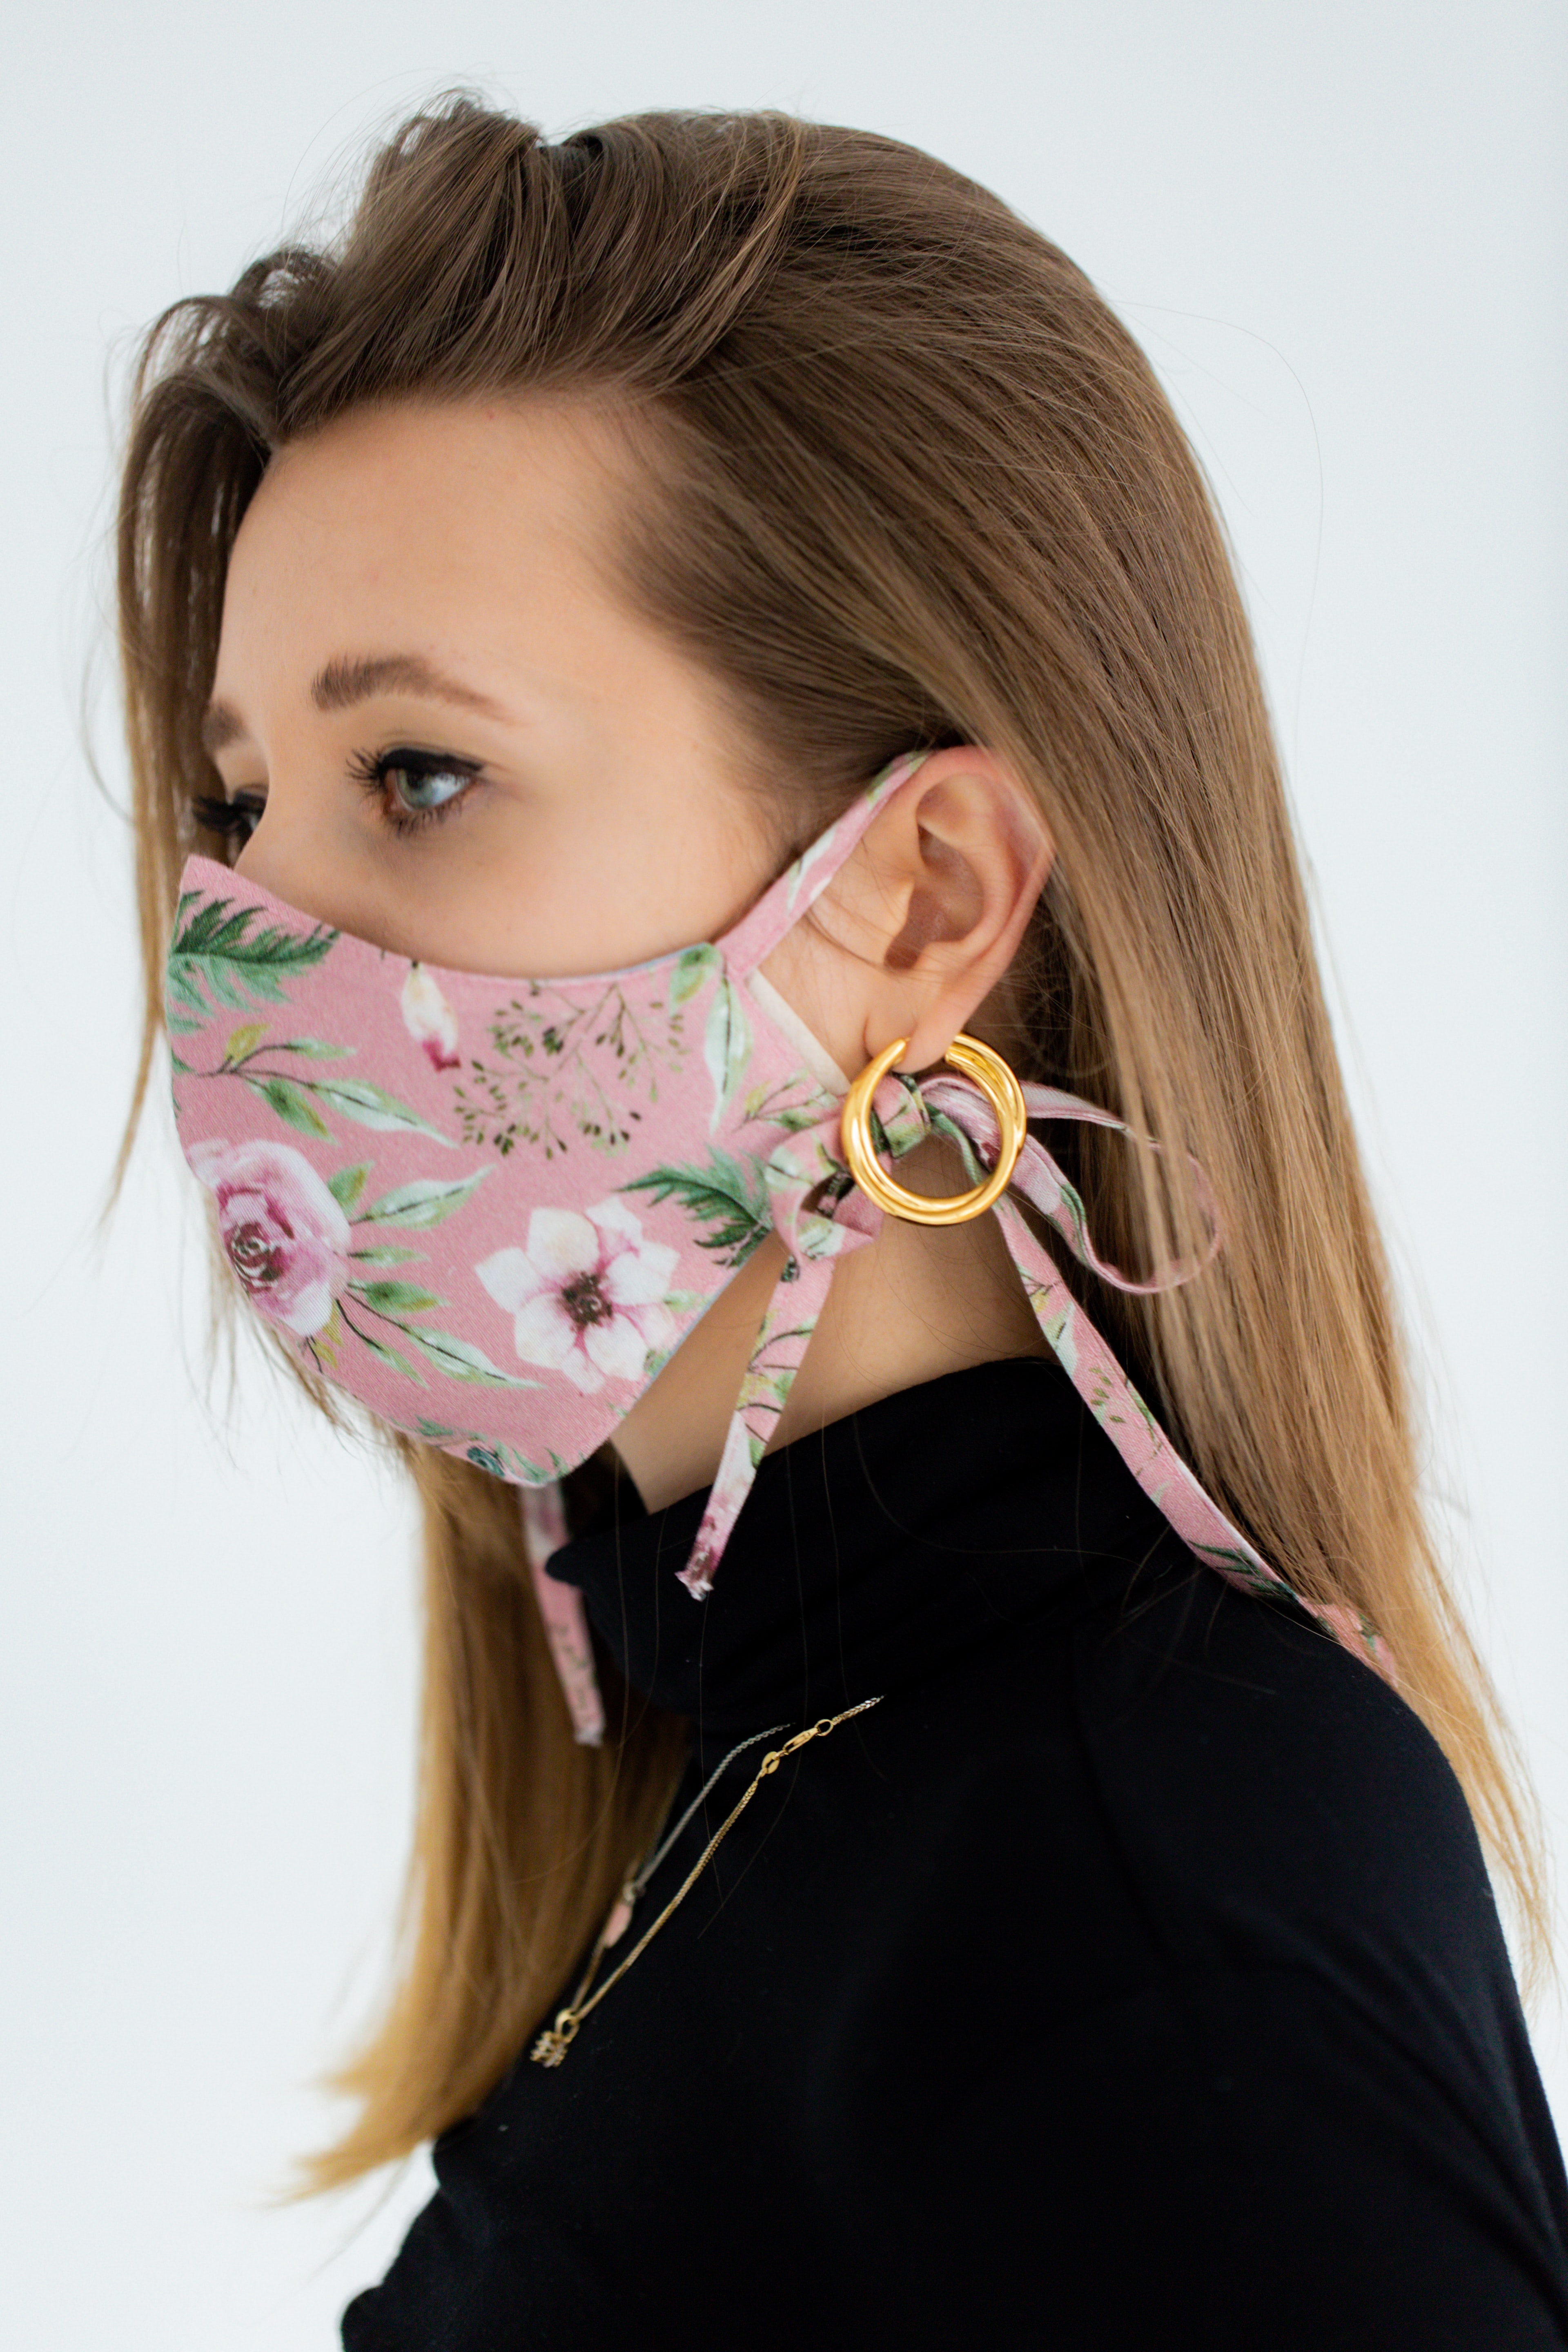mask: (120, 834, 898, 1526)
person: (71, 83, 1568, 2310)
